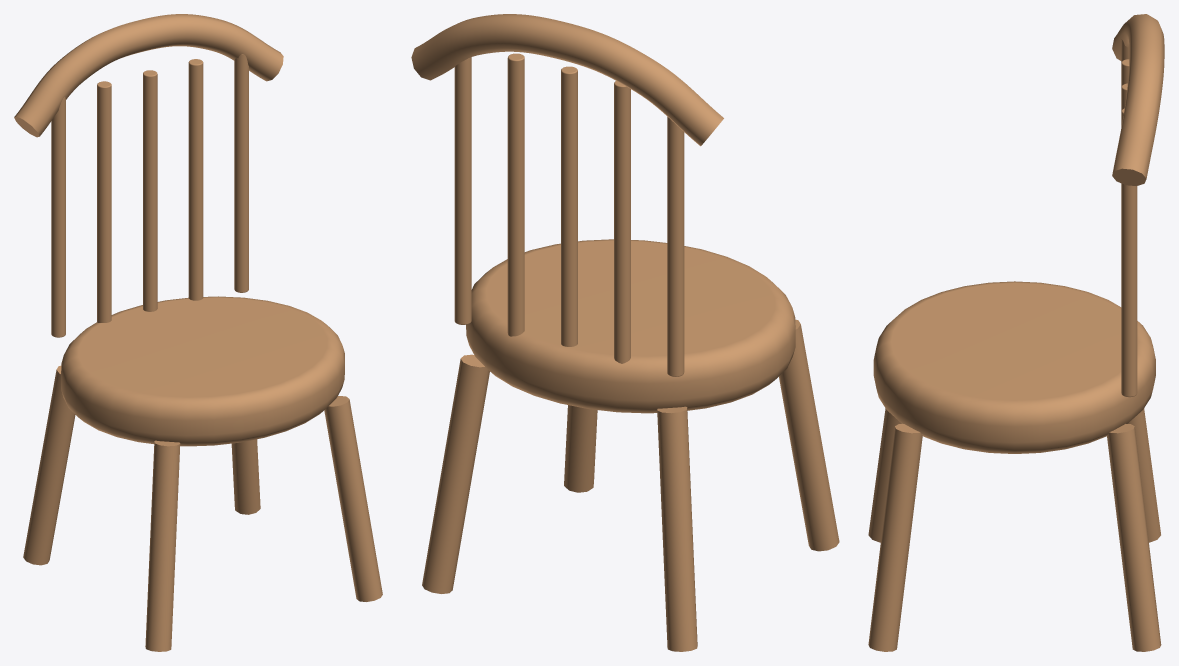
The model's file is kitchenChairWindsor.glb.
The picture shows the model from 3 angles, left to right: view 1: azimuth 30°, elevation 25°; view 2: azimuth 150°, elevation 25°; view 3: azimuth 270°, elevation 25°; orthographic projection. The views are drawn at different scales.
Visible parts, largest first — view 1: Dining chair seat, Curved Windsor crest, Splayed chair leg, Splayed chair leg.002, Splayed chair leg.001, Windsor back spindle.003, Windsor back spindle.001, Windsor back spindle.002, Windsor back spindle.004, Windsor back spindle, Splayed chair leg.003; view 2: Dining chair seat, Curved Windsor crest, Splayed chair leg.001, Splayed chair leg.003, Splayed chair leg, Windsor back spindle.003, Windsor back spindle.002, Windsor back spindle.004, Windsor back spindle.001, Windsor back spindle, Splayed chair leg.002; view 3: Dining chair seat, Splayed chair leg.002, Splayed chair leg.003, Curved Windsor crest, Windsor back spindle.004, Splayed chair leg, Splayed chair leg.001.
Boxes of the visible parts, x1,y1,x2,y2 form: Dining chair seat: [61, 296, 344, 446]; Curved Windsor crest: [14, 14, 283, 137]; Splayed chair leg: [145, 440, 180, 651]; Splayed chair leg.002: [324, 396, 382, 601]; Splayed chair leg.001: [23, 365, 75, 565]; Windsor back spindle.003: [188, 59, 203, 300]; Windsor back spindle.001: [97, 81, 111, 322]; Windsor back spindle.002: [143, 70, 157, 311]; Windsor back spindle.004: [234, 54, 248, 292]; Windsor back spindle: [51, 97, 65, 337]; Splayed chair leg.003: [231, 439, 260, 514]; Dining chair seat: [466, 239, 795, 413]; Curved Windsor crest: [411, 14, 723, 146]; Splayed chair leg.001: [657, 406, 697, 651]; Splayed chair leg.003: [422, 354, 489, 593]; Splayed chair leg: [779, 319, 839, 551]; Windsor back spindle.003: [507, 53, 524, 336]; Windsor back spindle.002: [561, 66, 577, 346]; Windsor back spindle.004: [454, 57, 471, 324]; Windsor back spindle.001: [614, 81, 630, 363]; Windsor back spindle: [667, 117, 684, 376]; Splayed chair leg.002: [564, 405, 597, 492]; Dining chair seat: [873, 281, 1155, 453]; Splayed chair leg.002: [868, 424, 922, 651]; Splayed chair leg.003: [1107, 424, 1161, 651]; Curved Windsor crest: [1112, 14, 1164, 185]; Windsor back spindle.004: [1121, 183, 1137, 397]; Splayed chair leg: [868, 408, 901, 542]; Splayed chair leg.001: [1128, 408, 1160, 542].
Bounding box in the file's own units: 0.7484 × 1.39 × 0.6723.
